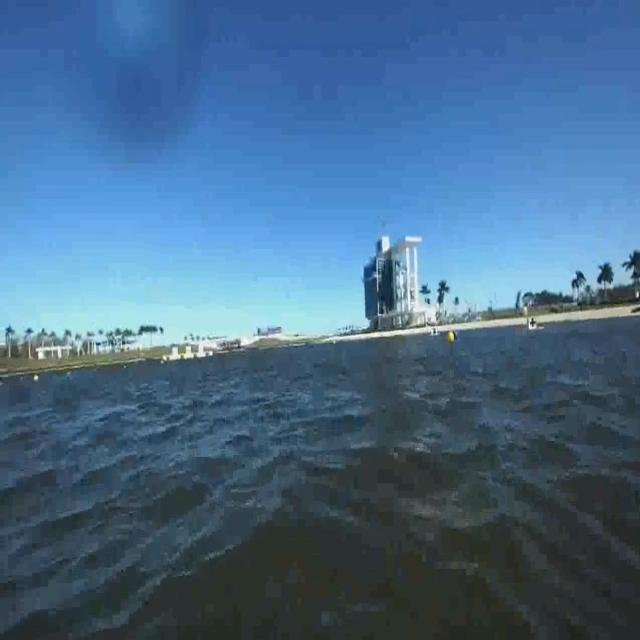yellow-buoy: (448, 330, 457, 344)
